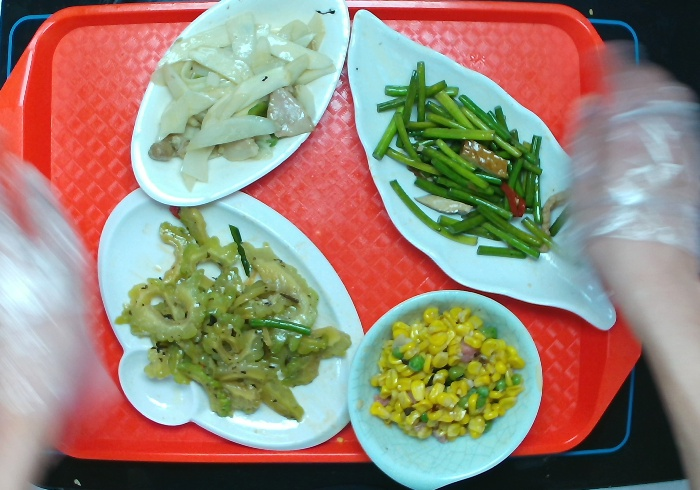RJxy-Bai_Se_Tuo_Yuan: (129, 1, 352, 208)
RJxy-Shu_Ye_Pan: (346, 8, 618, 332)
RJxy-Xiao_Jiao_Yuan_Wan: (346, 288, 544, 490)
RJxy-Zhan_Liao_Pan: (96, 185, 366, 452)
